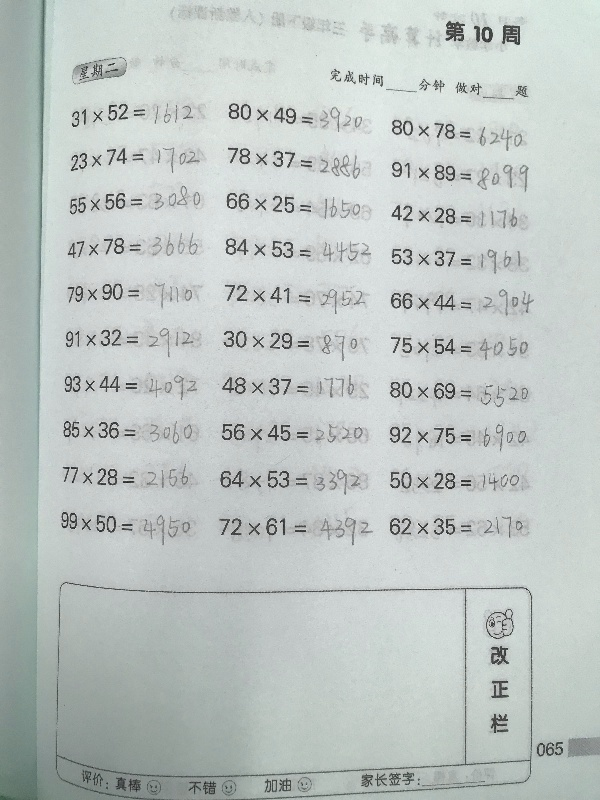equation: (215, 510, 377, 545), (61, 320, 204, 357), (57, 509, 193, 547), (387, 286, 538, 320), (390, 115, 525, 153), (216, 465, 366, 499), (386, 421, 534, 455), (221, 283, 368, 316), (219, 327, 361, 361), (224, 101, 366, 134), (386, 376, 532, 408), (60, 367, 201, 400), (58, 414, 197, 447), (388, 333, 532, 364), (223, 145, 365, 176), (387, 245, 524, 277), (64, 229, 201, 261), (386, 513, 534, 542), (221, 236, 374, 264), (222, 191, 364, 221), (59, 461, 196, 492), (213, 372, 358, 401), (65, 186, 204, 216), (391, 160, 529, 190), (217, 420, 371, 446), (64, 279, 195, 309), (67, 99, 196, 129), (387, 202, 521, 230), (386, 468, 527, 494), (66, 145, 146, 172)
